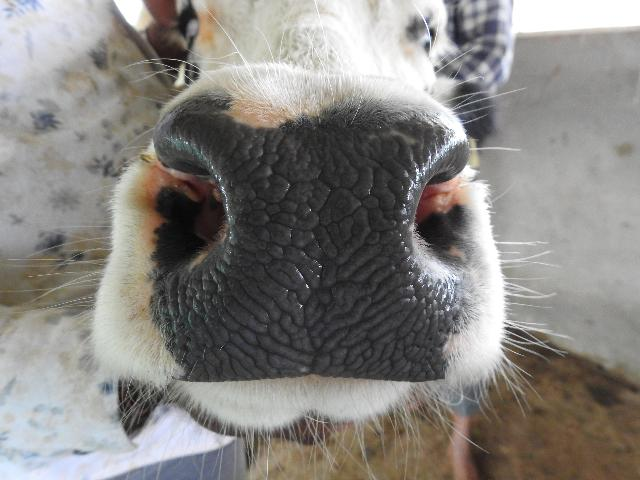Muzzle: (192, 130, 430, 378)
